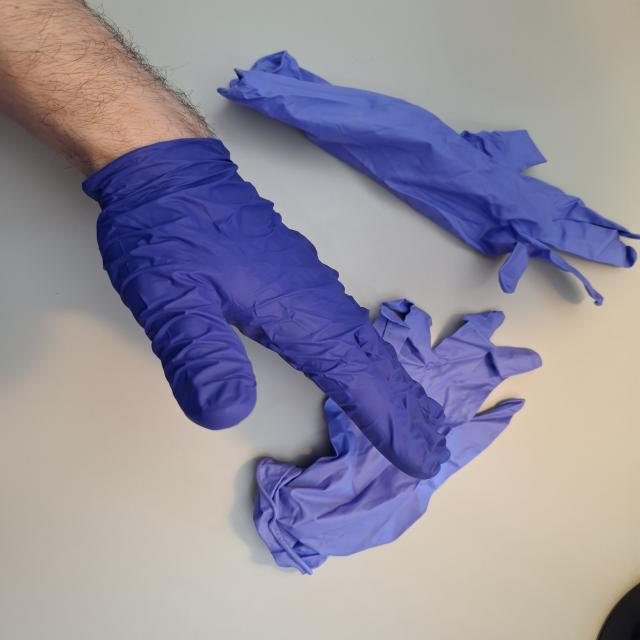glove_on: (75, 135, 455, 482)
